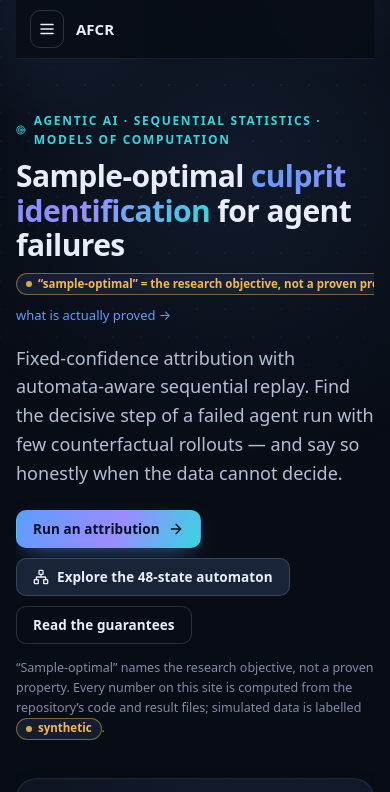
Test case: navigation › marks the active page and toggles the mobile menu
The width and height of the screenshot is (390, 792).
Click the button named "open menu".
click(47, 29)  # box [30,10,64,48]
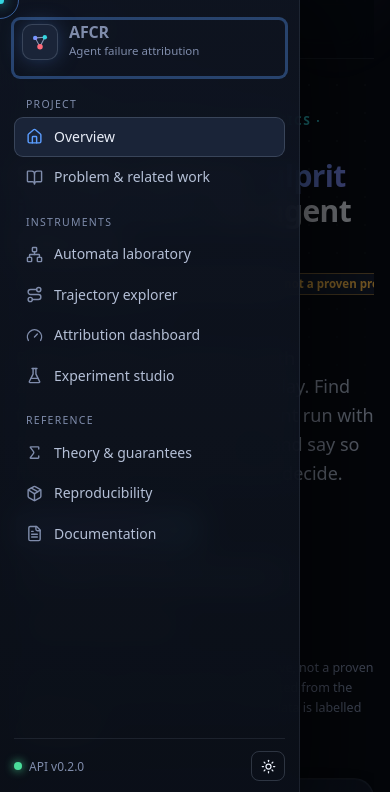
Check: the button named "close menu" is expanded, box [30,10,64,48]
